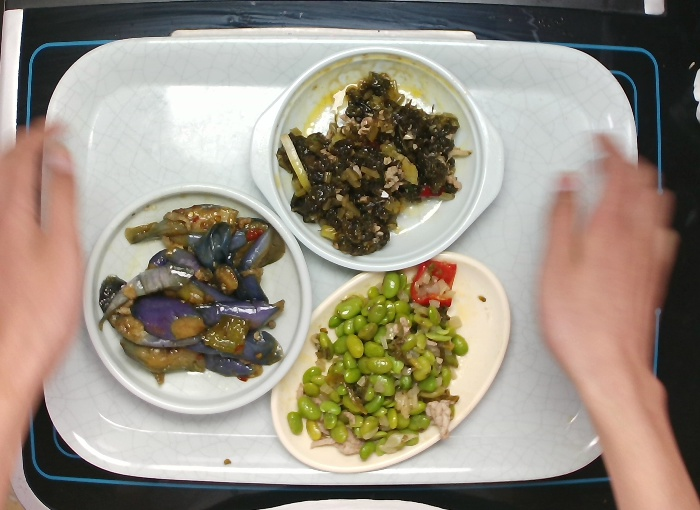JYsf-Shuang_Er_Pan: (244, 43, 509, 276)
JYsf-Tuo_Yuan_Wan: (267, 248, 517, 475)
JYsf-Xiao_Yuan_Pan: (80, 179, 315, 417)
